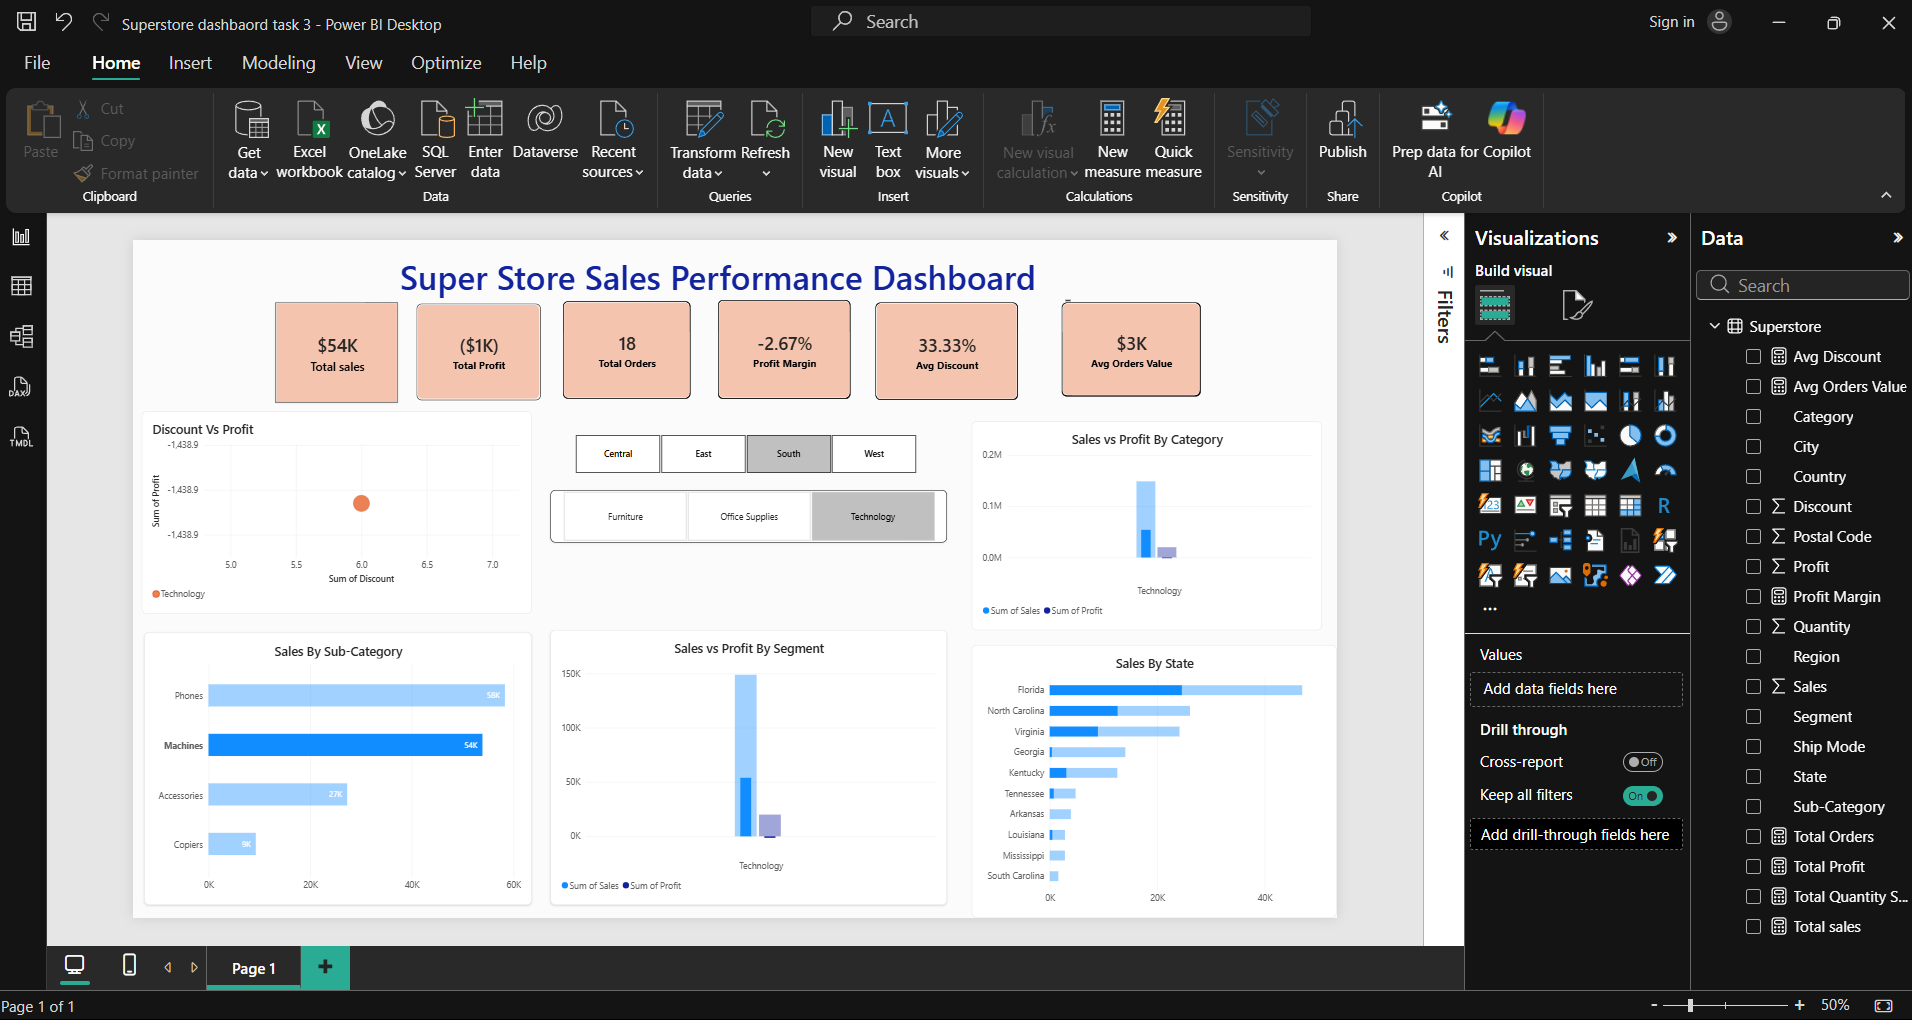

Layout of this report page (visuals, bound fields, positions):
{"tool":"powerbi","page":{"name":"Page 1","canvas":[1925,1084],"ordinal":0},"visuals":[{"type":"cardVisual","fields":{"Data":["Superstore.Total sales"]},"box":[228,100,196,160],"z":0},{"type":"cardVisual","fields":{"Data":["Superstore.Total Profit"]},"box":[454,102,198,154],"z":1},{"type":"cardVisual","fields":{"Data":["Superstore.Total Orders"]},"box":[688,98,204,156],"z":2},{"type":"cardVisual","fields":{"Data":["Superstore.Profit Margin"]},"box":[936,96,212,158],"z":3},{"type":"barChart","title":"Sales By Sub-Category","fields":{"Category":["Superstore.Sub-Category"],"Y":["Sum(Superstore.Sales)"]},"box":[18,628,620,436],"z":4},{"type":"clusteredColumnChart","title":"Sales vs Profit By Segment ","fields":{"Category":["Superstore.Category"],"Y":["Sum(Superstore.Sales)","Sum(Superstore.Profit)"]},"box":[668,624,634,440],"z":5},{"type":"slicer","fields":{"Values":["Superstore.Region"]},"box":[688,310,584,64],"z":6},{"type":"cardVisual","fields":{"Data":["Superstore.Avg Discount"]},"box":[1188,100,228,156],"z":7},{"type":"cardVisual","fields":{"Data":["Superstore.Avg Orders Value"]},"box":[1486,100,222,150],"z":8},{"type":"barChart","title":"Sales By State","fields":{"Y":["Sum(Superstore.Sales)"],"Category":["Superstore.State"]},"box":[1342,648,584,436],"z":9},{"type":"clusteredColumnChart","title":" Sales vs Profit By Category","fields":{"Category":["Superstore.Category"],"Y":["Sum(Superstore.Sales)","Sum(Superstore.Profit)"]},"box":[1342,290,560,334],"z":10},{"type":"scatterChart","title":"Discount Vs Profit","fields":{"X":["Sum(Superstore.Discount)"],"Y":["Sum(Superstore.Profit)"],"Series":["Superstore.Category"],"Size":["Sum(Superstore.Sales)"]},"box":[14,274,624,324],"z":11},{"type":"textbox","title":"Super Store Sales Performance Dashboard","box":[372,22,1128,76],"z":12},{"type":"slicer","fields":{"Values":["Superstore.Category"]},"box":[668,400,634,84],"z":13}]}

Visuals, with their boxes on the page's 1925x1084 design canvas (x1, y1, x2, y2). These are canvas units, not pixel positions in the 1912x1020 screenshot, which may show the page scaled, cropped or inside an application window:
cardVisual - Superstore.Total sales: 228,100,424,260
cardVisual - Superstore.Total Profit: 454,102,652,256
cardVisual - Superstore.Total Orders: 688,98,892,254
cardVisual - Superstore.Profit Margin: 936,96,1148,254
"Sales By Sub-Category" barChart: 18,628,638,1064
"Sales vs Profit By Segment " clusteredColumnChart: 668,624,1302,1064
slicer - Superstore.Region: 688,310,1272,374
cardVisual - Superstore.Avg Discount: 1188,100,1416,256
cardVisual - Superstore.Avg Orders Value: 1486,100,1708,250
"Sales By State" barChart: 1342,648,1926,1084
" Sales vs Profit By Category" clusteredColumnChart: 1342,290,1902,624
"Discount Vs Profit" scatterChart: 14,274,638,598
"Super Store Sales Performance Dashboard" textbox: 372,22,1500,98
slicer - Superstore.Category: 668,400,1302,484
